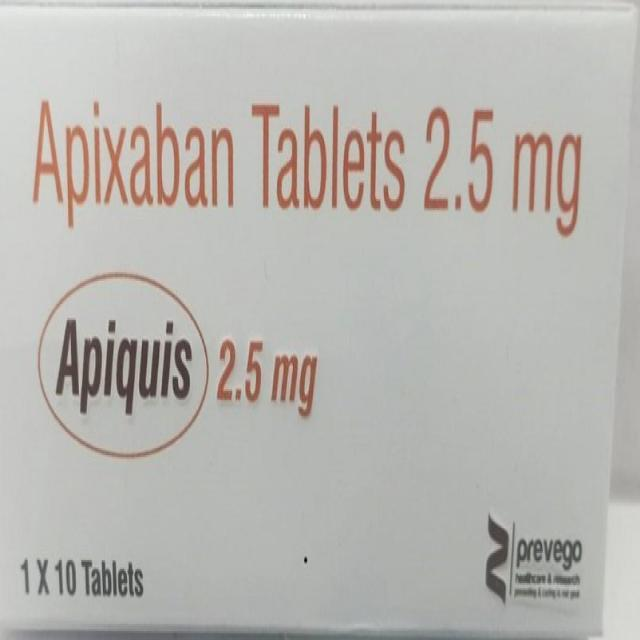drug-name: (55, 318, 194, 413)
